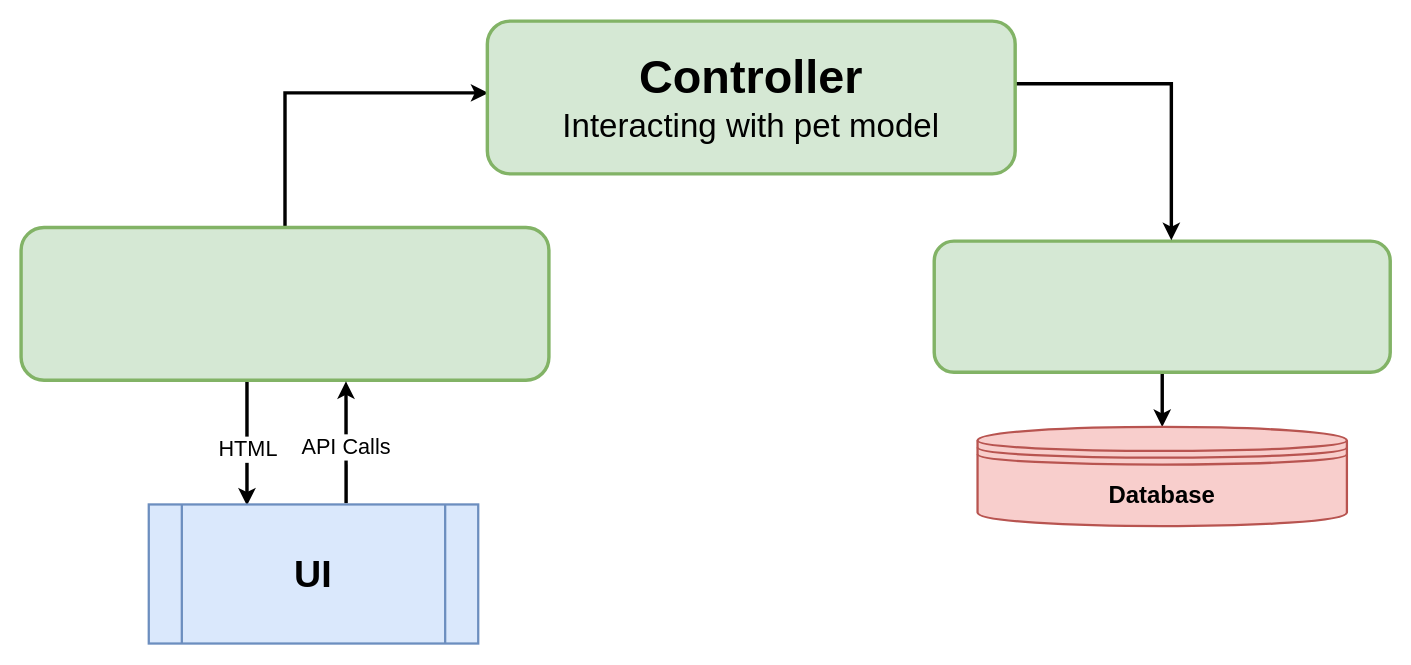
Image size: 1411x665. Some labels were removed from this diagram. Here are the shapes that lost their labels. From the top down, the centre of each, then its label:
(284,303): View Leaderboard HTML Upvote/downvote API endpoints
(1161,306): Model Data model for pet
